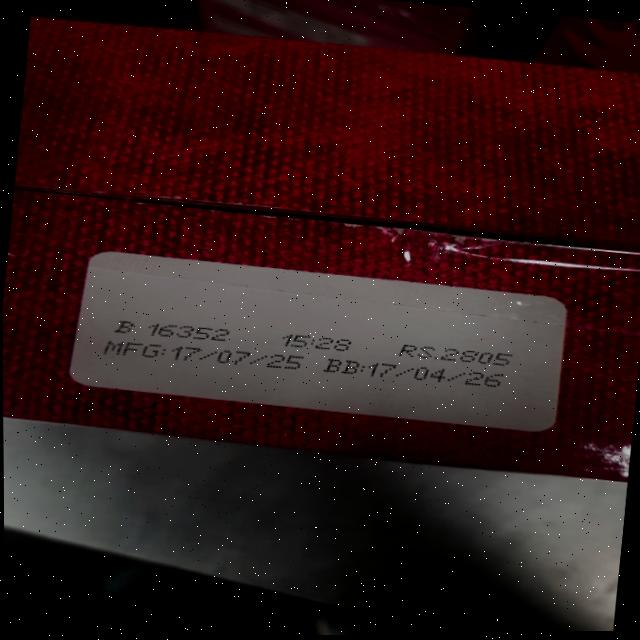BB: (325, 355, 509, 392)
Batch: (113, 317, 236, 345)
MFG: (104, 335, 307, 376)
RS: (397, 340, 516, 368)
TimeStamp: (278, 331, 354, 353)
